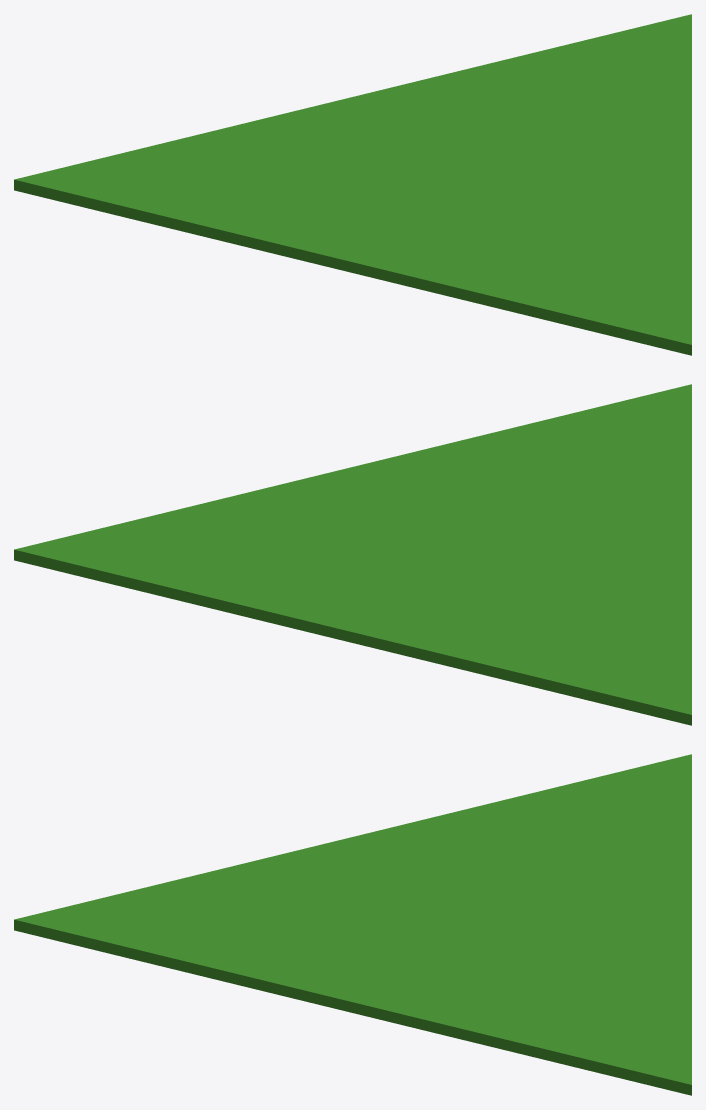
The picture shows the model from 3 angles, top to bottom: view 1: azimuth 30°, elevation 25°; view 2: azimuth 150°, elevation 25°; view 3: azimuth 270°, elevation 25°; orthographic projection.
Visible parts, largest first — view 1: ground.002; view 2: ground.002; view 3: ground.002.
Boxes of the visible parts, box(x1,y1,x2,y2) form: ground.002: box(14, 14, 691, 355); ground.002: box(14, 384, 691, 725); ground.002: box(14, 754, 691, 1095).
Size of the model in its own units: 1 by 0.0153 by 0.866.
